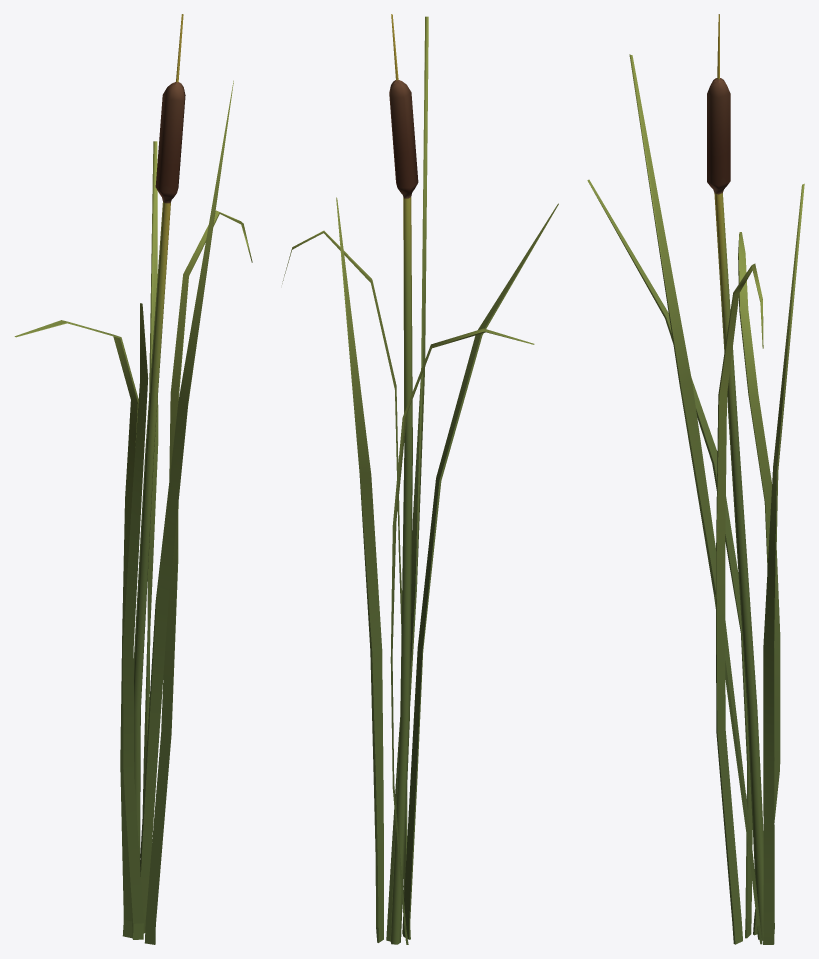
File: cattail_01.fbx
The picture shows the model from 3 angles, left to right: view 1: azimuth 30°, elevation 25°; view 2: azimuth 150°, elevation 25°; view 3: azimuth 270°, elevation 25°; orthographic projection. The views are drawn at different scales.
Parts seen in each view (by area): view 1: cattail_01:cattail_01:pCylinder1; view 2: cattail_01:cattail_01:pCylinder1; view 3: cattail_01:cattail_01:pCylinder1.
Boxes of the visible parts, bbox=[...] form: cattail_01:cattail_01:pCylinder1: bbox=[14, 14, 252, 944]; cattail_01:cattail_01:pCylinder1: bbox=[282, 14, 558, 944]; cattail_01:cattail_01:pCylinder1: bbox=[587, 14, 804, 944].
Size of the model in its own units: 167 by 596 by 125.
